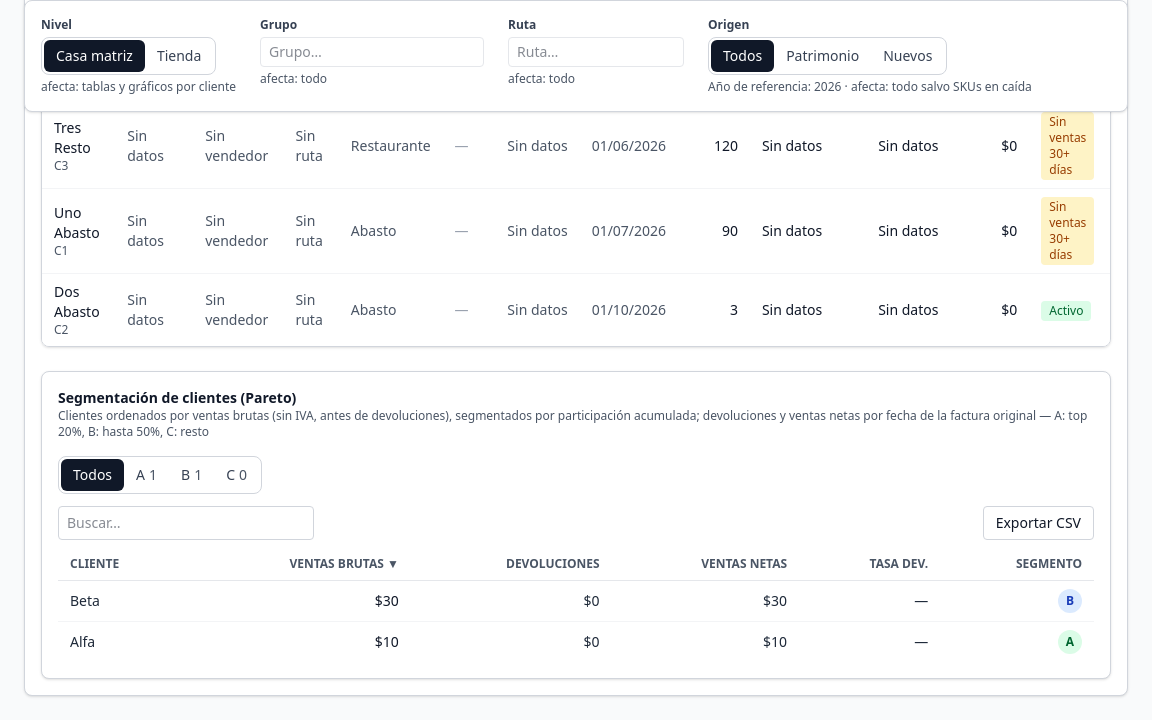
Scenario: TabClientes › the segment filter is aria-pressed and narrows the rows
(page scrolled)
Expected: the text "Beta" is shown, [58,580,183,622]
Click the button "A1". click: (147,475)
box: [124,459,169,491]
(page scrolled)
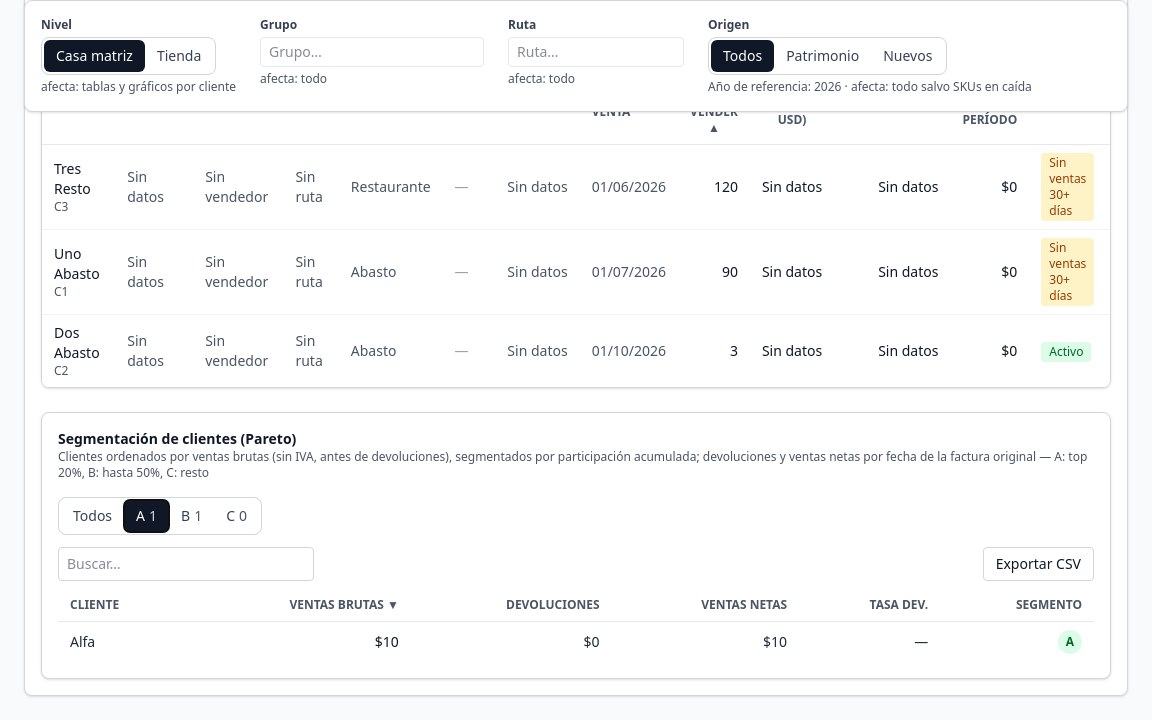
Now the text "Beta" is gone
